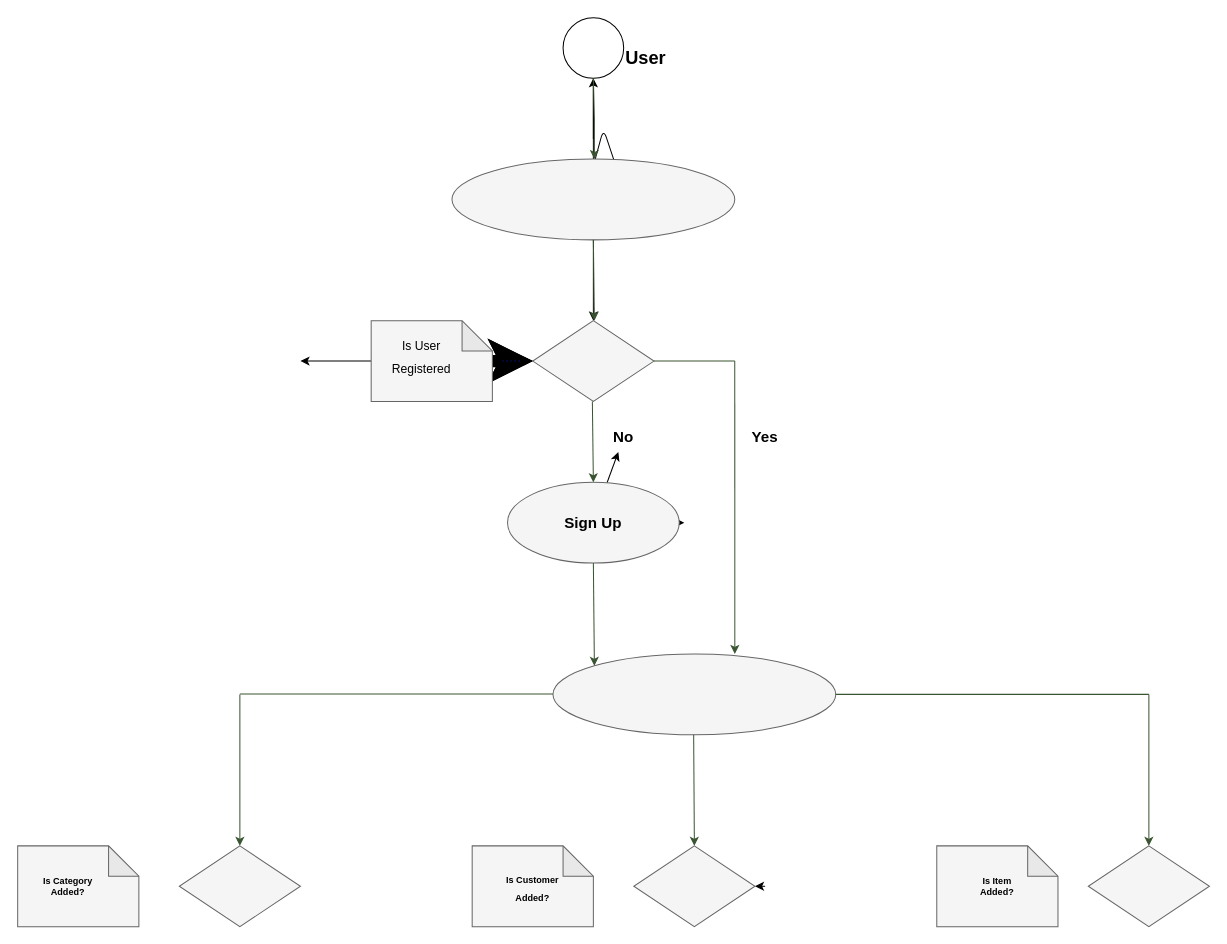
This 1227x944 diagram has some shape labels left out. The shapes that lost their labels are listed below. From the top down, each one's box as (x1, y1, x2, y2) in pixels, then its label:
(451, 158, 735, 240): User Visits Homepage
(552, 653, 836, 735): Log In
